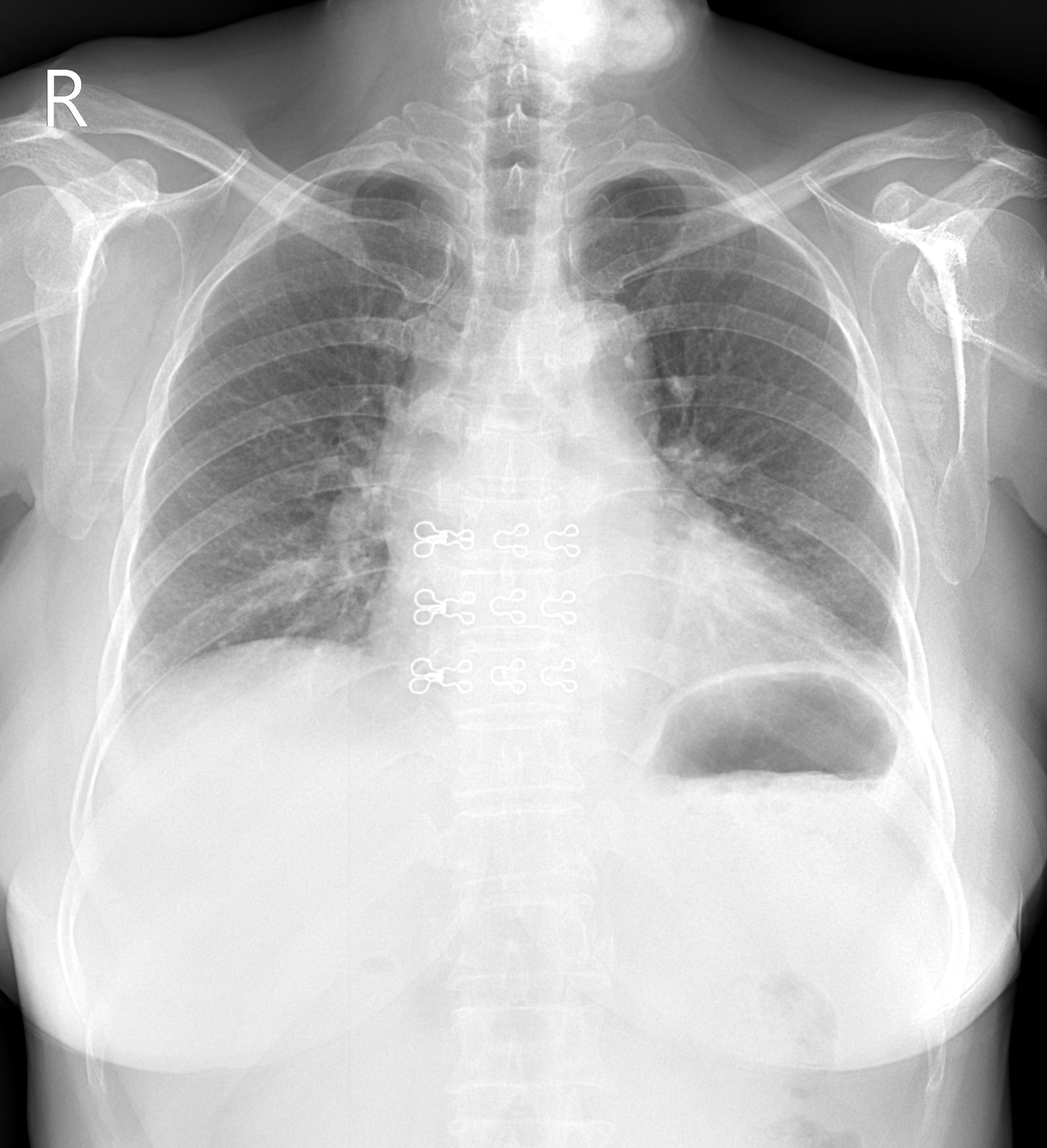Aortic enlargement: (513, 300, 661, 445)
Cardiomegaly: (366, 555, 841, 704)
Pleural thickening: (609, 162, 714, 184)
